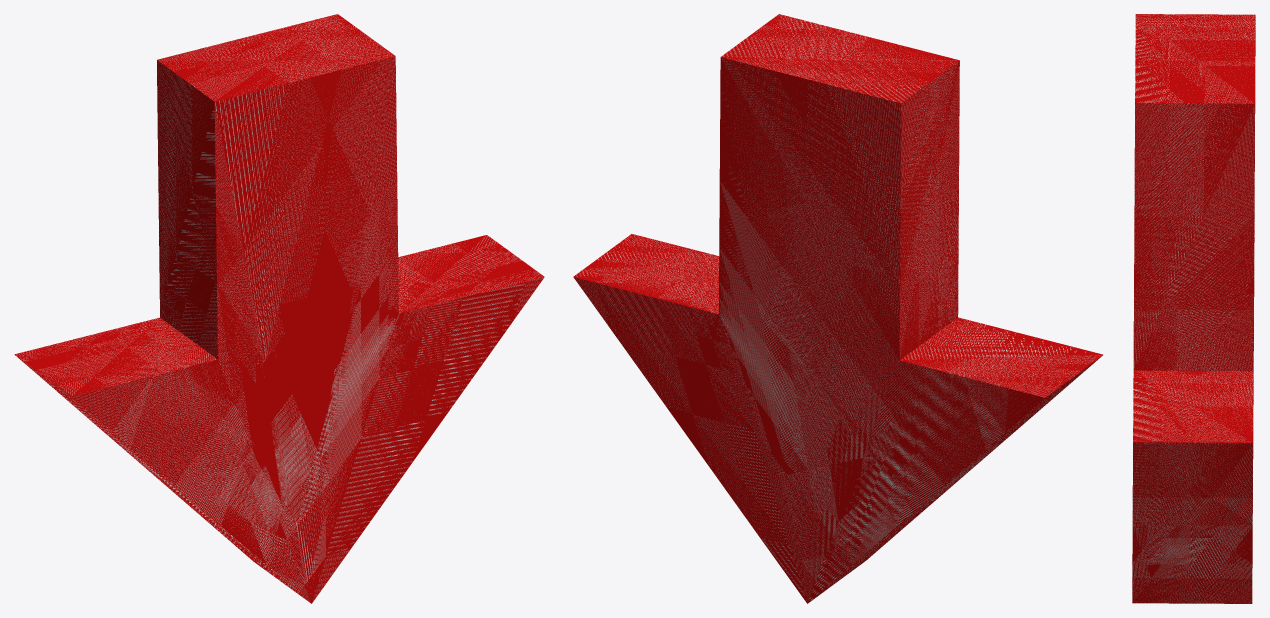
The model's file is arrow_down.dae.
The picture shows the model from 3 angles, left to right: view 1: azimuth 30°, elevation 25°; view 2: azimuth 150°, elevation 25°; view 3: azimuth 270°, elevation 25°; orthographic projection. The views are drawn at different scales.
Visible parts, largest first — view 1: SketchUp; view 2: SketchUp; view 3: SketchUp.
Part boxes in pixels (x1,y1,x2,y2): SketchUp: [14, 14, 544, 603]; SketchUp: [573, 14, 1103, 603]; SketchUp: [1132, 14, 1255, 603].
Size of the model in its own units: 3.93 by 0.8624 by 4.19.
